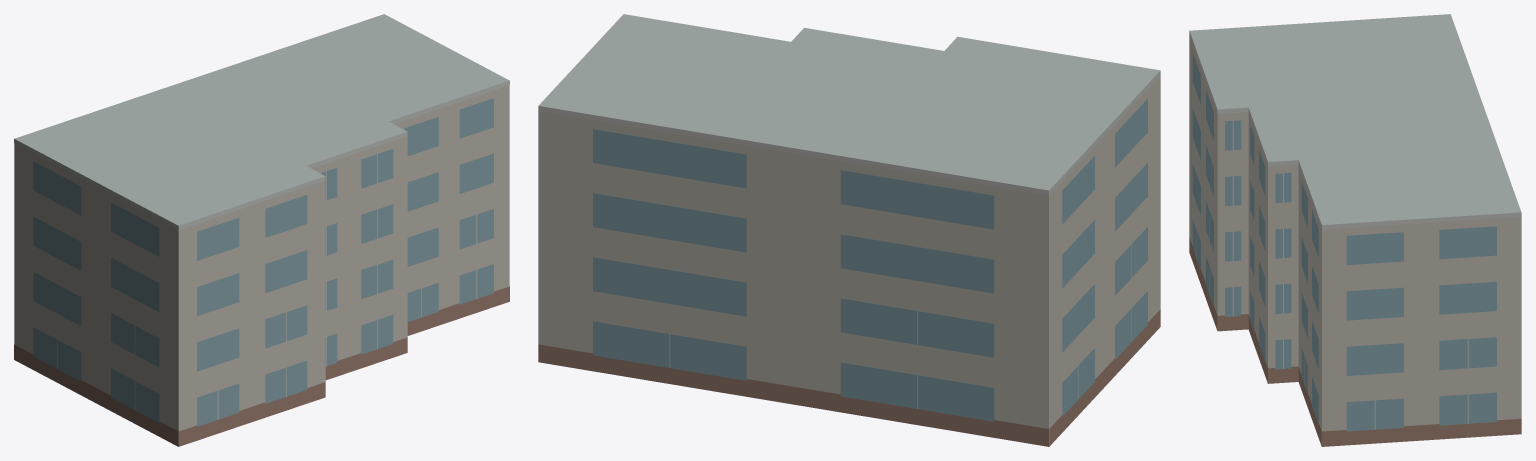
The model's file is residential-e36d1c86-df39-4470-911b-f4809b3d5661.glb.
3 views of the same model, side by side, from view 1: azimuth 30°, elevation 25°; view 2: azimuth 150°, elevation 25°; view 3: azimuth 270°, elevation 25° (orthographic). The views are drawn at different scales.
Visible parts, largest first — view 1: residential-e36d1c86-df39-4470-911b-f4809b3d5661.tmp; view 2: residential-e36d1c86-df39-4470-911b-f4809b3d5661.tmp; view 3: residential-e36d1c86-df39-4470-911b-f4809b3d5661.tmp.
Boxes of the visible parts, <box> form: residential-e36d1c86-df39-4470-911b-f4809b3d5661.tmp: <box>14,14,509,446</box>; residential-e36d1c86-df39-4470-911b-f4809b3d5661.tmp: <box>538,14,1160,446</box>; residential-e36d1c86-df39-4470-911b-f4809b3d5661.tmp: <box>1189,14,1521,446</box>.
Bounding box in the file's own units: 24.91 × 12.2 × 16.57.
